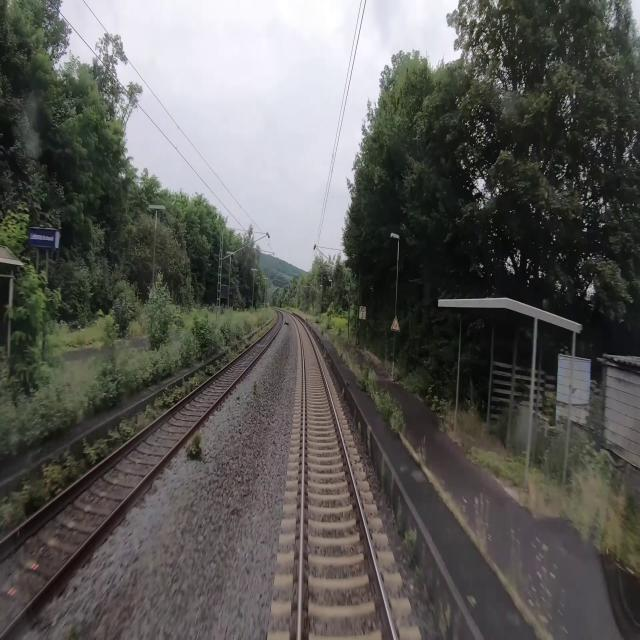Plant: (87, 373, 206, 465), (0, 463, 77, 534), (221, 335, 259, 365), (185, 431, 202, 459), (206, 362, 221, 375), (68, 625, 79, 639)
